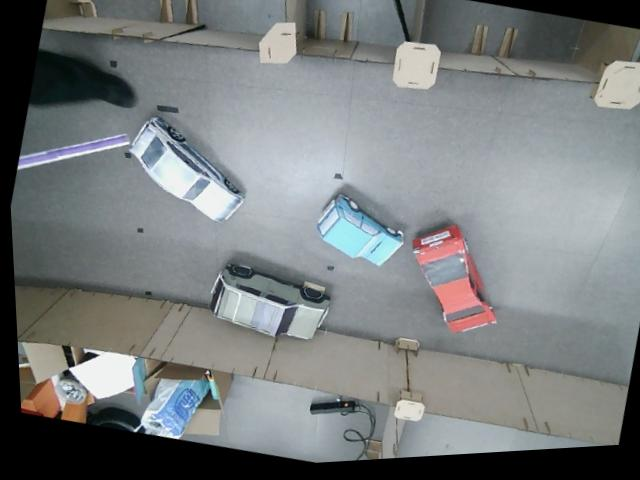car: (114, 106, 259, 233), (392, 210, 517, 346), (204, 255, 333, 351), (309, 186, 412, 274)
